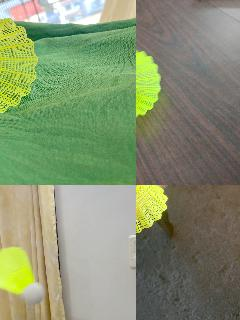shuttlecock: (0, 15, 37, 116), (0, 246, 45, 304), (136, 49, 160, 118), (136, 185, 167, 237)
